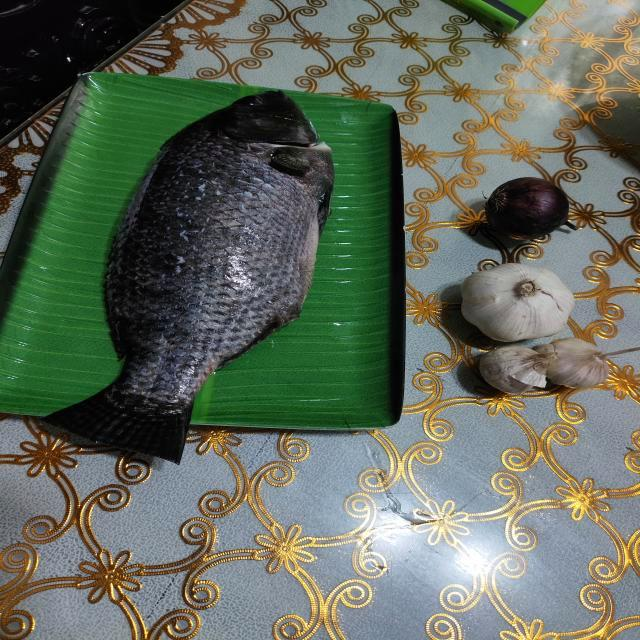fish: (52, 86, 336, 462)
garlic: (465, 262, 609, 399)
onion: (477, 177, 566, 237)
